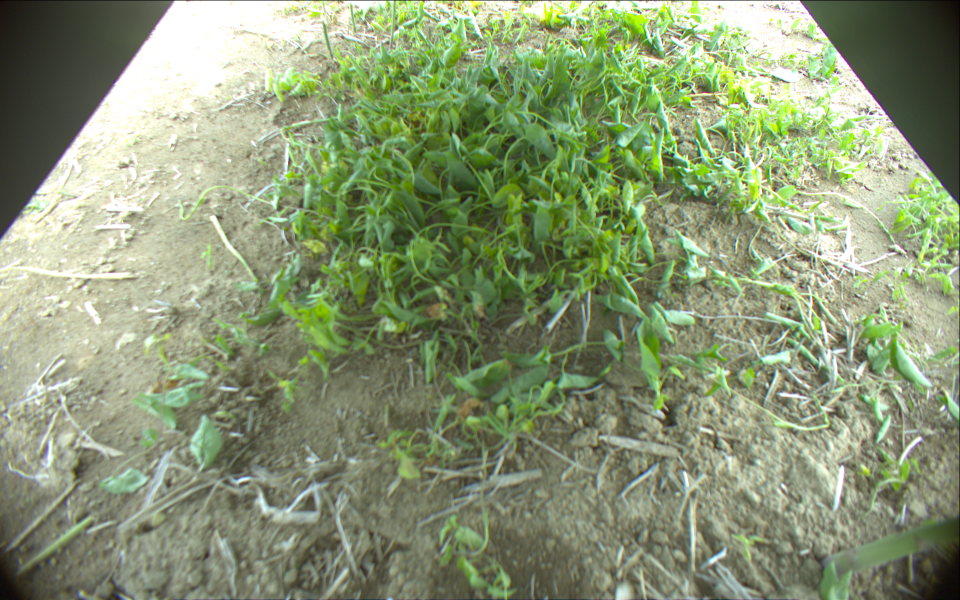aspa: (821, 509, 960, 581), (8, 515, 95, 583), (210, 214, 266, 289), (178, 183, 279, 221), (322, 22, 335, 61), (389, 1, 396, 47), (350, 3, 358, 29)
